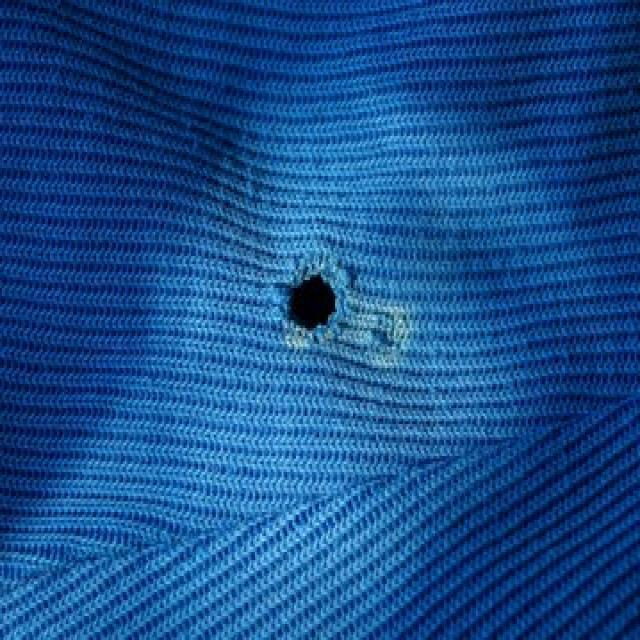Hole: (279, 253, 351, 348), (372, 330, 394, 346)
